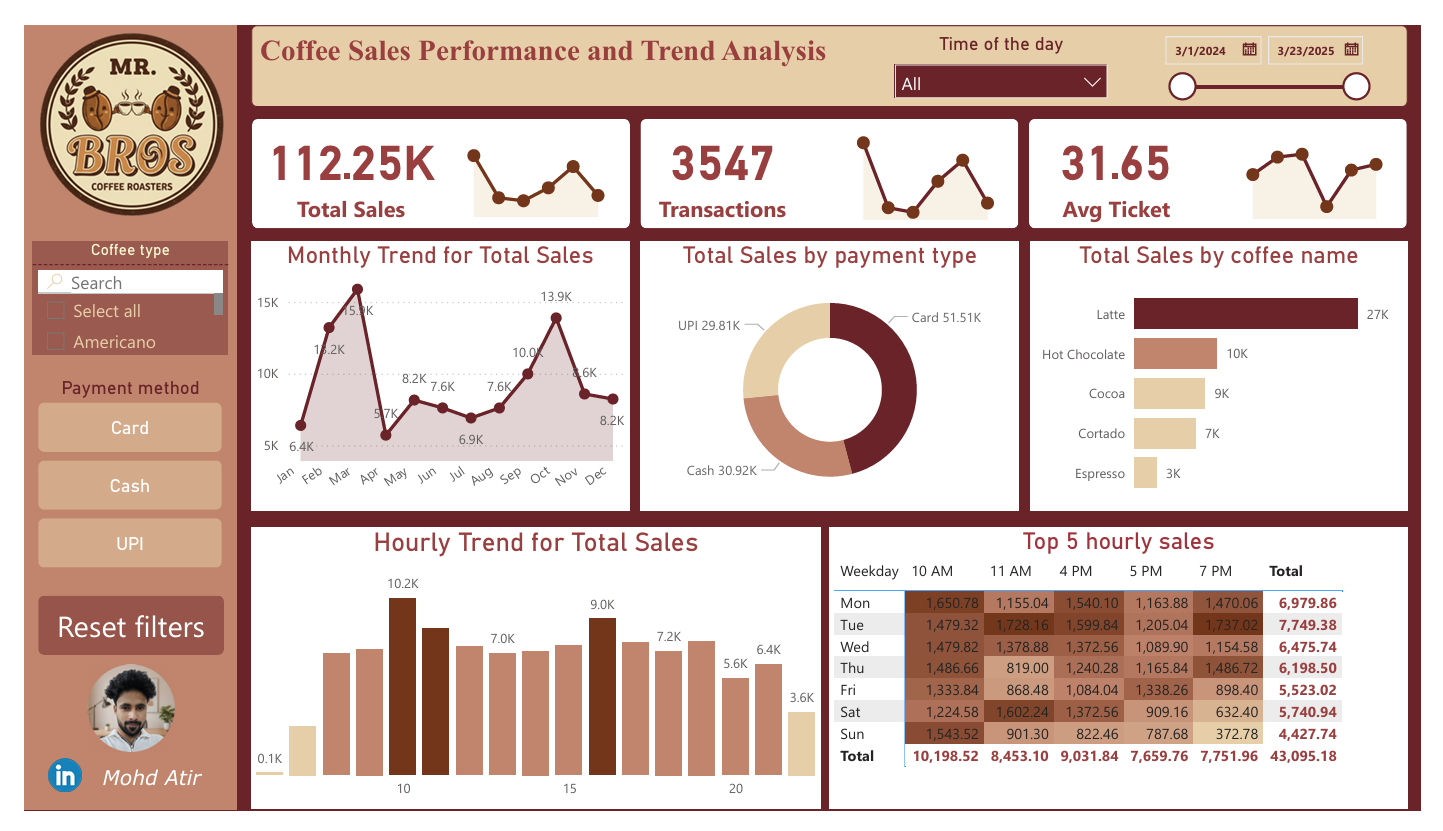

Layout of this report page (visuals, bound fields, positions):
{"tool":"powerbi","page":{"name":"Coffee Sales Dashboard","canvas":[1280,720],"ordinal":0},"visuals":[{"type":"textbox","box":[208.3,0,1060,75],"z":0},{"type":"shape","box":[208.6,85.7,346,100],"z":1000},{"type":"card","fields":{"Values":["Coffee_sales.Total Sales"]},"box":[216.7,88.3,165,93.3],"z":2000},{"type":"areaChart","fields":{"Category":["Coffee_sales.Month_name"],"Y":["Coffee_sales.Total Sales"]},"box":[398.3,85,141.7,95],"z":3000},{"type":"shape","box":[565,85.7,346,100],"z":4000},{"type":"shape","box":[921.4,85.7,346,100],"z":5000},{"type":"shape","box":[0,0,195.3,719.2],"z":6000},{"type":"card","fields":{"Values":["Coffee_sales.Transactions"]},"box":[570,86.7,140,96.7],"z":7000},{"type":"areaChart","fields":{"Category":["Coffee_sales.Month_name"],"Y":["Coffee_sales.Transactions"]},"box":[755,88.3,141.7,95],"z":8000},{"type":"card","fields":{"Values":["Coffee_sales.Avg Ticket"]},"box":[931.4,87.1,140,95.7],"z":9000},{"type":"areaChart","fields":{"Category":["Coffee_sales.Month_name"],"Y":["Coffee_sales.Avg Ticket"]},"box":[1111.7,86.7,141.7,95],"z":10000},{"type":"areaChart","title":"Monthly Trend for Total Sales","fields":{"Category":["Coffee_sales.Month_name"],"Y":["Coffee_sales.Total Sales"]},"box":[208.3,198.3,346.7,246.7],"z":11000},{"type":"barChart","title":"Total Sales by coffee name","fields":{"Y":["Coffee_sales.Total Sales"],"Category":["Coffee_sales.coffee_name"]},"box":[921.7,198.3,346.7,246.7],"z":12000},{"type":"donutChart","title":"Total Sales by payment type","fields":{"Category":["Coffee_sales.payment_method"],"Y":["Coffee_sales.Total Sales"]},"box":[565,198.3,346.7,246.7],"z":13000},{"type":"pivotTable","title":"Top 5 hourly sales ","fields":{"Rows":["Coffee_sales.Weekday"],"Values":["Coffee_sales.Total Sales"],"Columns":["Coffee_sales.Hour_Formatted"]},"box":[738.3,460,530,258.3],"z":14000},{"type":"columnChart","title":"Hourly Trend for Total Sales","fields":{"Y":["Coffee_sales.Total Sales"],"Category":["Coffee_sales.hour_of_day"]},"box":[208.3,460,521.7,258.3],"z":15000},{"type":"image","box":[9.1,0,178.7,180.2],"z":16000},{"type":"slicer","fields":{"Values":["Coffee_sales.Date"]},"box":[1033.3,0,208.3,75],"z":17000},{"type":"slicer","title":"Time of the day","fields":{"Values":["Coffee_sales.Time_of_Day"]},"box":[788.3,6.7,215,61.7],"z":18000},{"type":"slicer","title":"Coffee type","fields":{"Values":["Coffee_sales.coffee_name"]},"box":[8.3,198.3,178.3,103.3],"z":19000},{"type":"advancedSlicerVisual","title":"Payment method","fields":{"Values":["Coffee_sales.payment_method"]},"box":[8.3,321.7,178.3,183.3],"z":20000},{"type":"actionButton","box":[13.3,523.3,170,53.3],"z":21000},{"type":"image","box":[53.3,576.7,90,98.3],"z":22000},{"type":"image","box":[13.3,666.7,48.3,41.7],"z":23000},{"type":"textbox","box":[61.7,671.7,110,36.7],"z":24000}]}

Visuals, with their boxes in screenshot pixels (x1, y1, x2, y2), scaled from the page's 1280x720 canvas onto the 1443x831 screenshot:
textbox: 235:0:1430:87
shape: 235:99:625:214
card - Coffee_sales.Total Sales: 244:102:430:210
areaChart - Coffee_sales.Month_name x Coffee_sales.Total Sales: 449:98:609:208
shape: 637:99:1027:214
shape: 1039:99:1429:214
shape: 0:0:220:830
card - Coffee_sales.Transactions: 643:100:800:212
areaChart - Coffee_sales.Month_name x Coffee_sales.Transactions: 851:102:1011:212
card - Coffee_sales.Avg Ticket: 1050:101:1208:211
areaChart - Coffee_sales.Month_name x Coffee_sales.Avg Ticket: 1253:100:1413:210
"Monthly Trend for Total Sales" areaChart: 235:229:626:514
"Total Sales by coffee name" barChart: 1039:229:1430:514
"Total Sales by payment type" donutChart: 637:229:1028:514
"Top 5 hourly sales " pivotTable: 832:531:1430:829
"Hourly Trend for Total Sales" columnChart: 235:531:823:829
image: 10:0:212:208
slicer - Coffee_sales.Date: 1165:0:1400:87
"Time of the day" slicer: 889:8:1131:79
"Coffee type" slicer: 9:229:210:348
"Payment method" advancedSlicerVisual: 9:371:210:583
actionButton: 15:604:207:665
image: 60:666:162:779
image: 15:769:69:818
textbox: 70:775:194:818
